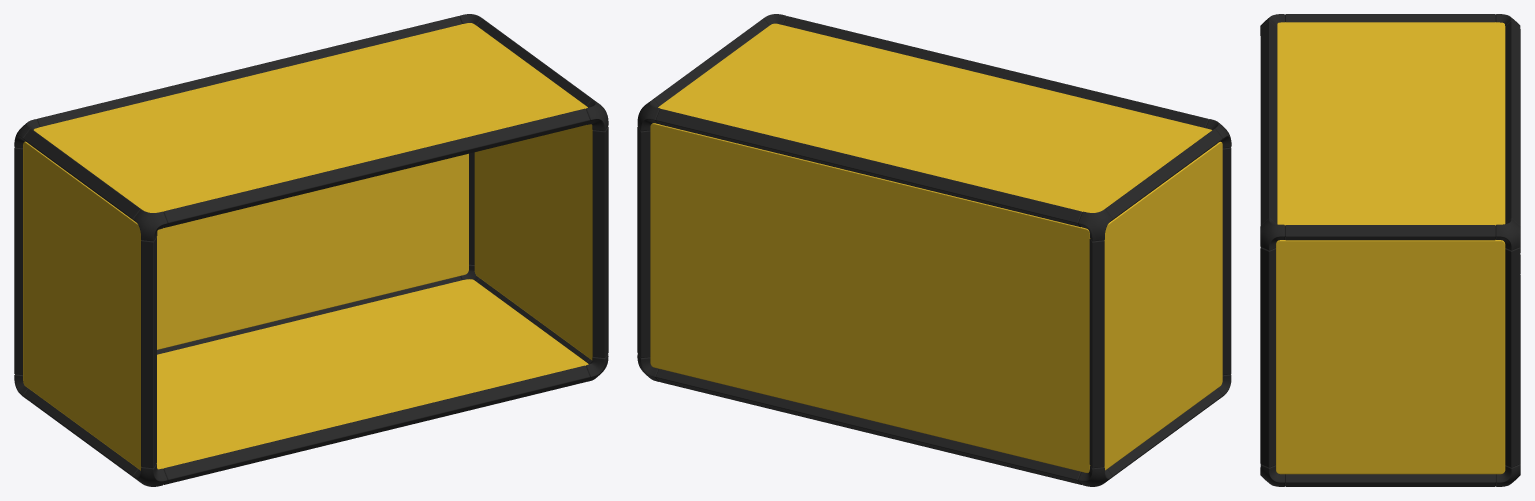
3 views of the same model, side by side, from view 1: azimuth 30°, elevation 25°; view 2: azimuth 150°, elevation 25°; view 3: azimuth 270°, elevation 25° (orthographic). The views are drawn at different scales.
Parts seen in each view (by area): view 1: 729x329x374; view 2: 729x329x374; view 3: 729x329x374.
Part boxes in pixels (left/top/right/bottom): 729x329x374: left=14, top=14, right=608, bottom=486; 729x329x374: left=637, top=14, right=1231, bottom=486; 729x329x374: left=1260, top=14, right=1520, bottom=486.
Bounding box in the file's own units: 0.8067 × 0.4516 × 0.4063.
